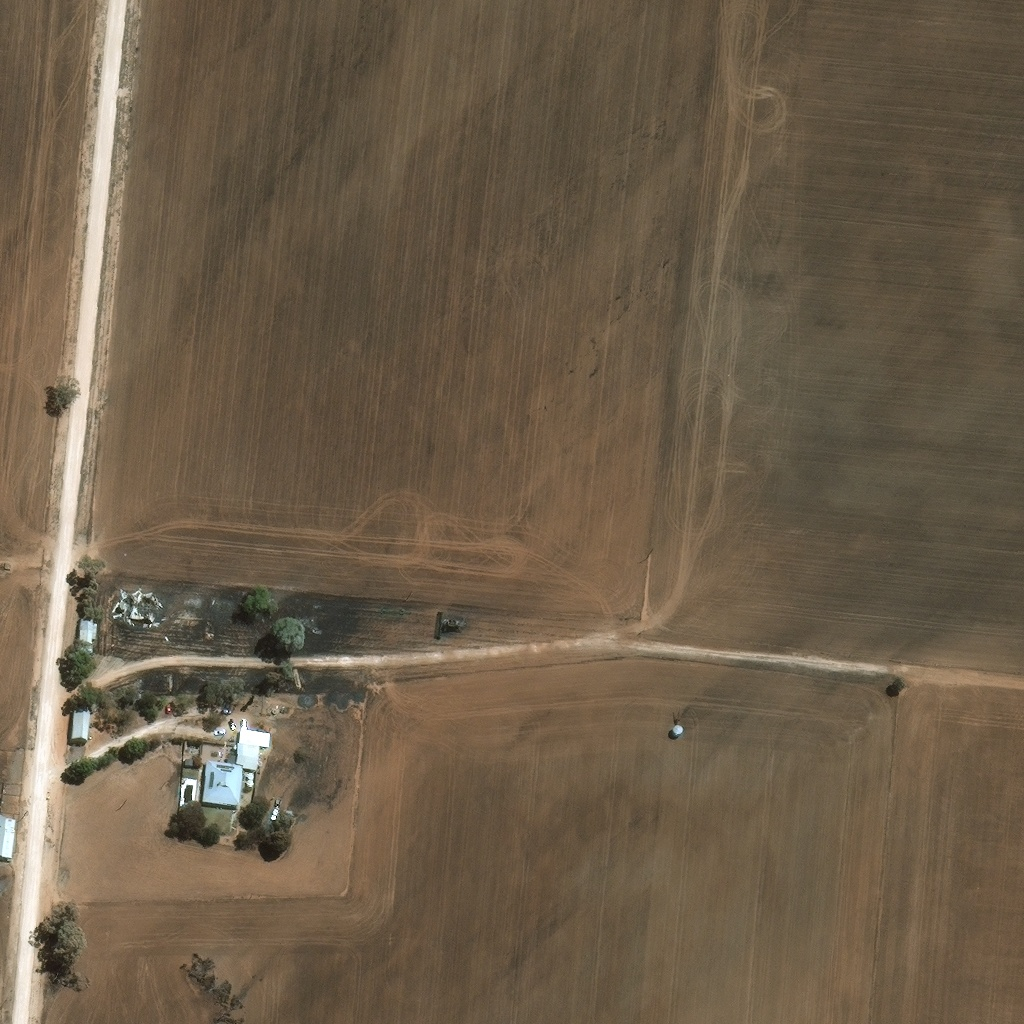0 no-damage: (201, 757, 245, 803), (76, 616, 96, 652), (0, 814, 17, 855), (71, 704, 91, 738), (236, 740, 259, 767), (238, 726, 271, 743), (246, 769, 255, 783), (268, 810, 277, 819), (185, 755, 193, 762)
3 destroyed: (127, 593, 160, 617), (286, 806, 295, 815), (118, 600, 126, 609)
